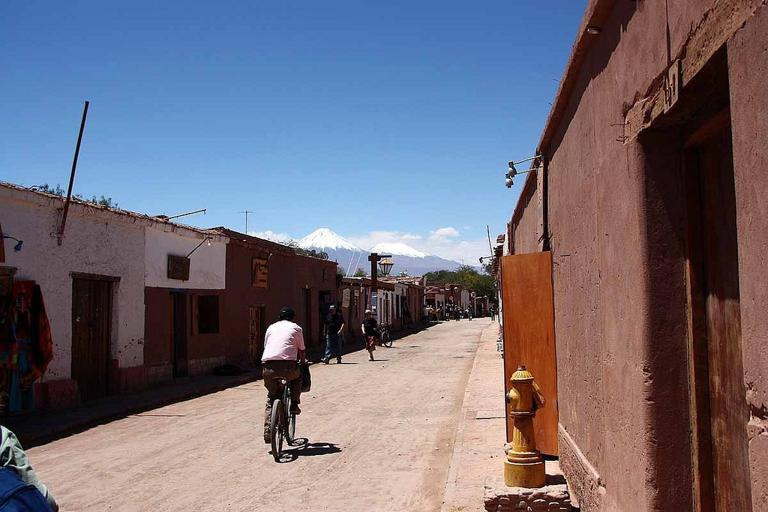non-vehicle: (268, 357, 314, 461), (373, 320, 391, 348)
